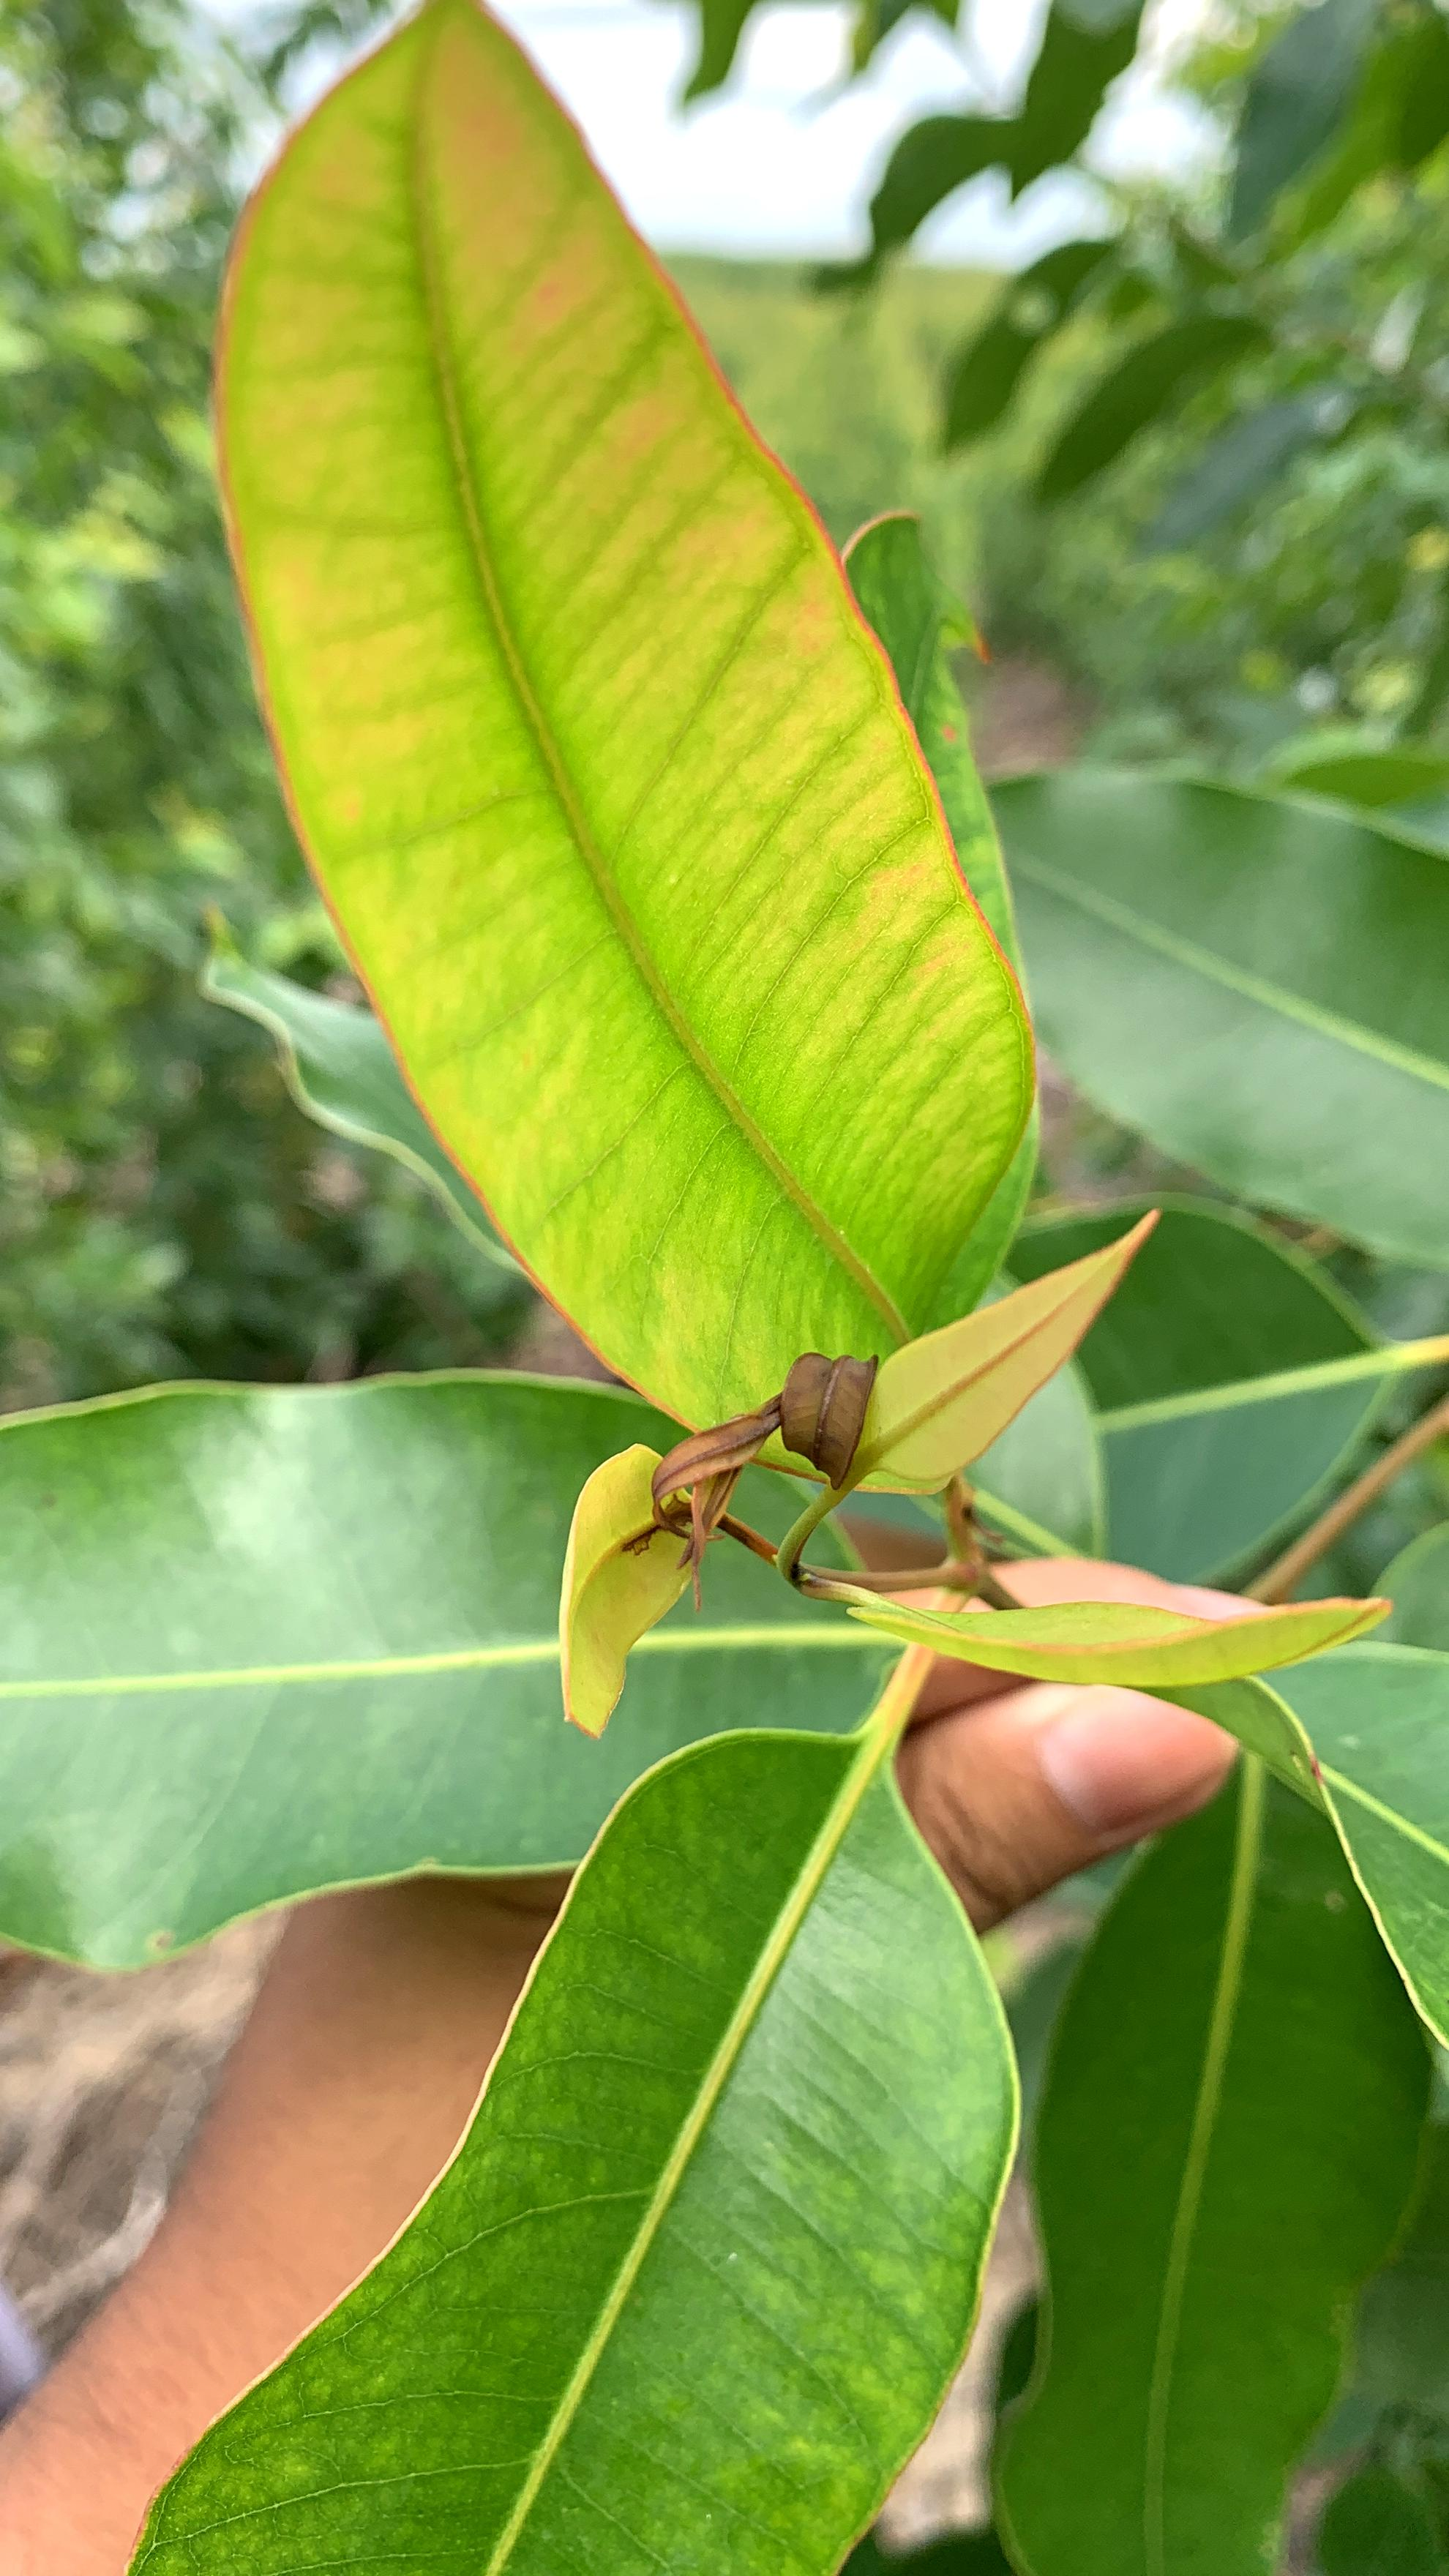Helopeltis-Withered Sprout: (576, 1282, 902, 1617)
